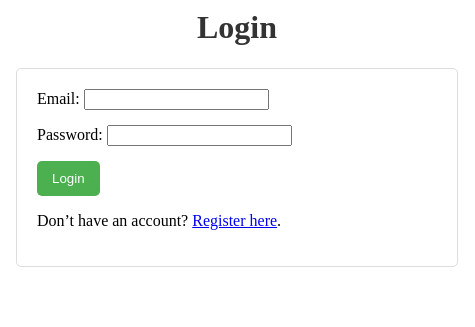
Test: Login Component › shows error message when login API fails
In the field labelled "Email:": (176, 99) top-left (84, 89), bottom-right (269, 110), type "wrong@example.com"
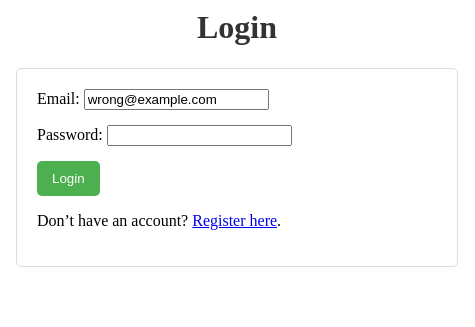
In the password field labelled "Password:": (199, 135) top-left (107, 125), bottom-right (292, 146), type "wrongpassword"
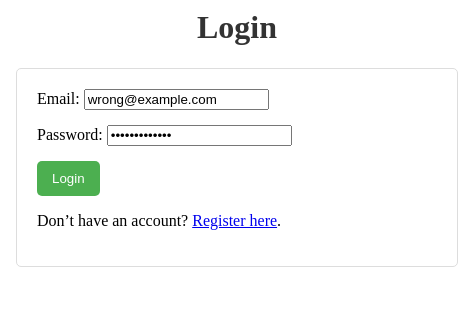
Click the button "Login": (68, 178) top-left (37, 161), bottom-right (100, 196)
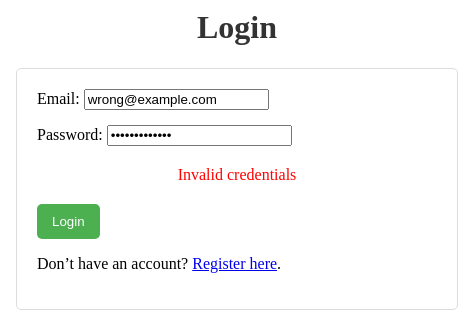
Expected: the text "Invalid credentials" is shown, top-left (178, 166), bottom-right (296, 183)
